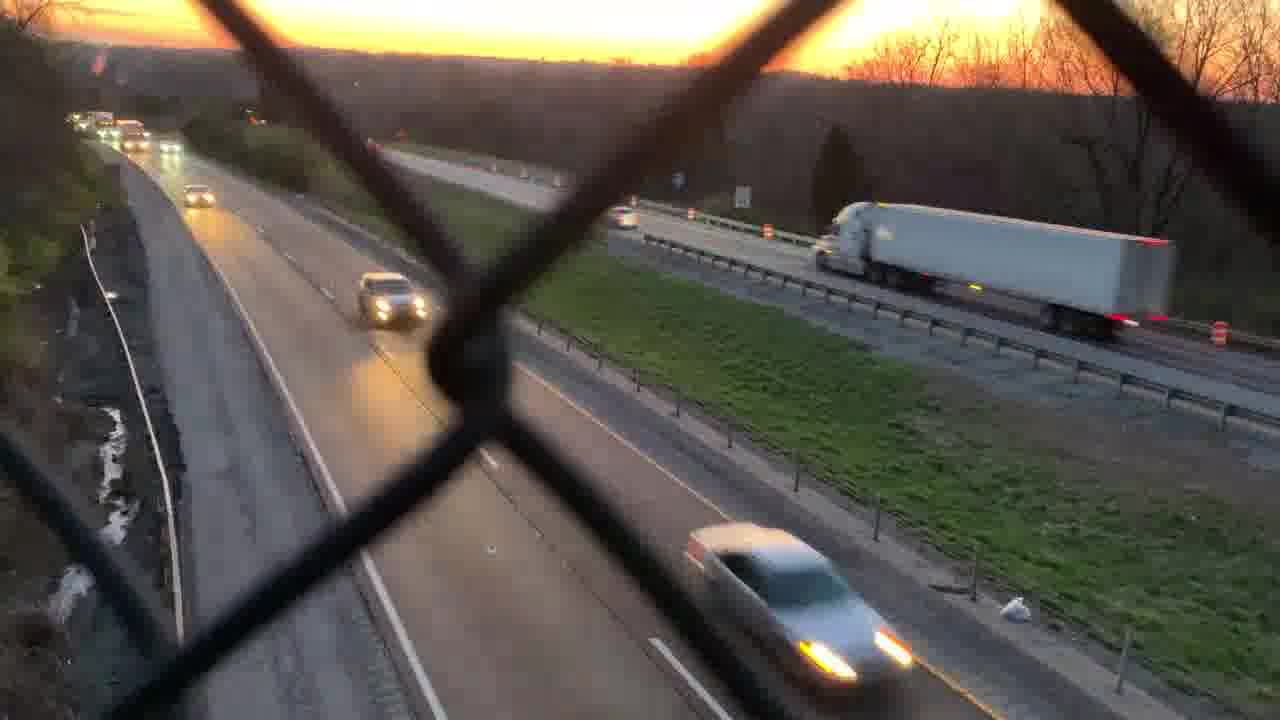heavyTruck: (814, 200, 1182, 332)
smallCar: (674, 517, 922, 703)
